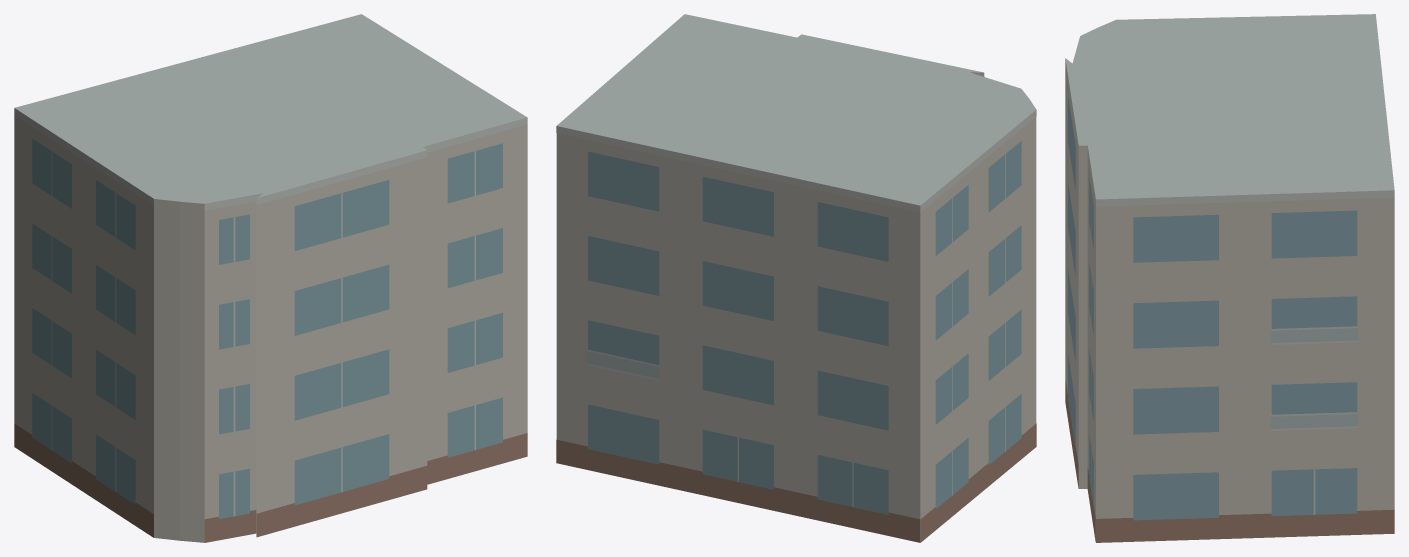
Rendered from survey-upis-32940192.glb.
3 renders of one model, left to right at view 1: azimuth 30°, elevation 25°; view 2: azimuth 150°, elevation 25°; view 3: azimuth 270°, elevation 25°, orthographic.
Parts seen in each view (by area): view 1: survey-upis-32940192.tmp; view 2: survey-upis-32940192.tmp; view 3: survey-upis-32940192.tmp.
Boxes of the visible parts, x1,y1,x2,y2 form: survey-upis-32940192.tmp: (14,14,527,542); survey-upis-32940192.tmp: (556,14,1036,542); survey-upis-32940192.tmp: (1065,14,1394,542).
Bounding box in the file's own units: 13.68 × 11.8 × 10.27.
